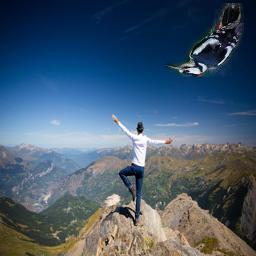Woodpecker: (166, 3, 244, 77)
